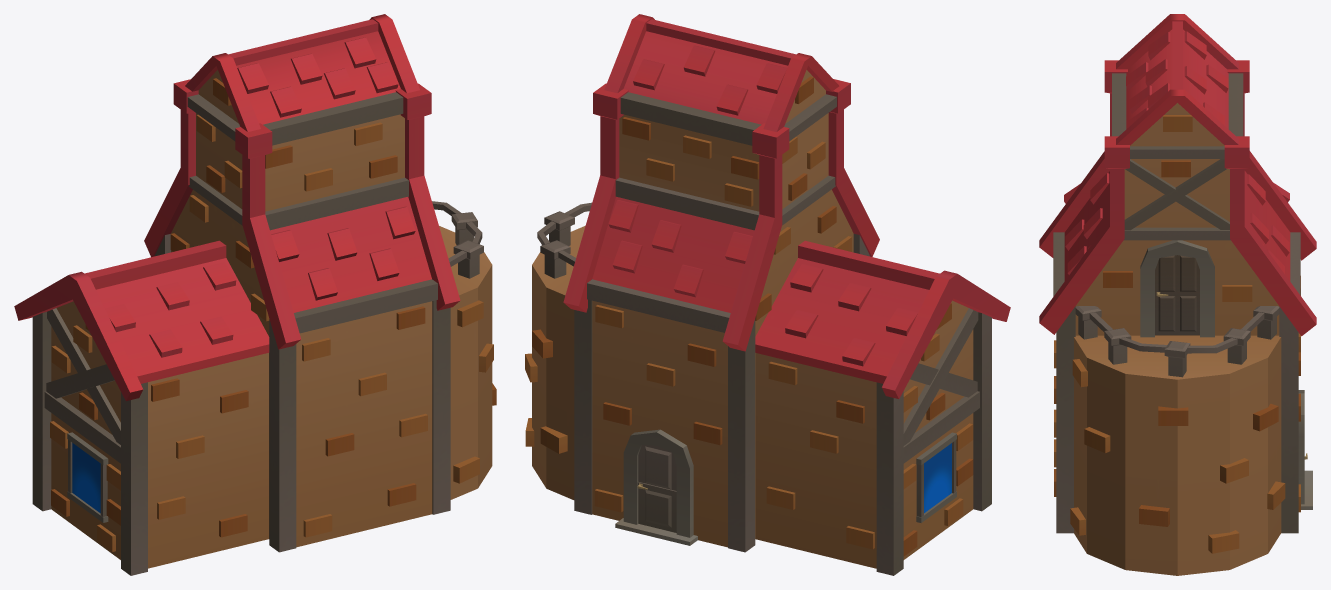
Rendered from SM_House_11.FBX.
The picture shows the model from 3 angles, left to right: view 1: azimuth 30°, elevation 25°; view 2: azimuth 150°, elevation 25°; view 3: azimuth 270°, elevation 25°; orthographic projection. The views are drawn at different scales.
Visible parts, largest first — view 1: SM_House_11; view 2: SM_House_11; view 3: SM_House_11.
Boxes of the visible parts, x1,y1,x2,y2 form: SM_House_11: [14, 14, 496, 575]; SM_House_11: [525, 14, 1010, 575]; SM_House_11: [1039, 14, 1316, 575].
Size of what is drawn, in the model's own units: 1086 by 649 by 1131.
